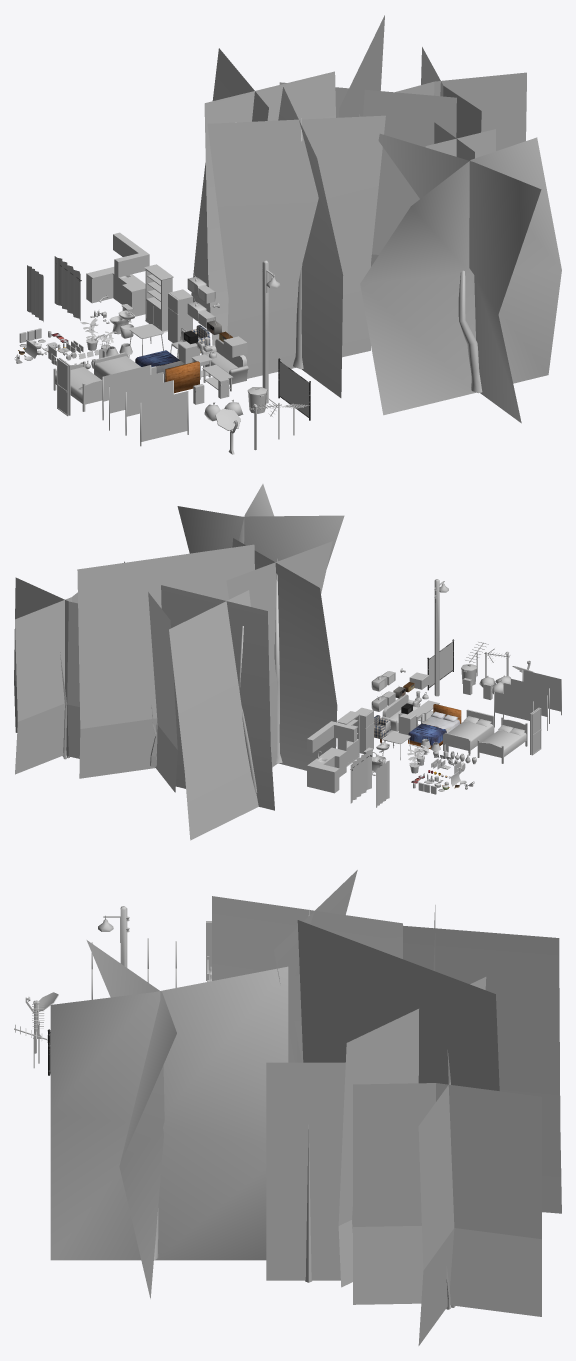
3 renders of one model, top to bottom at view 1: azimuth 30°, elevation 25°; view 2: azimuth 150°, elevation 25°; view 3: azimuth 270°, elevation 25°, orthographic. The views are drawn at different scales.
Parts seen in each view (by area): view 1: Trees_05, Trees_04, Trees, Trees_01, Trees_02, Clothings, kitchen, Trees_03, Bed, Curtain_01, Shelf, Fence (+11 smaller); view 2: Trees_01, Trees, Trees_04, Trees_02, Trees_05, kitchen, Bed_01, Bed, Bed_02, Curtain_01, cupboard, Clothings_03 (+8 smaller); view 3: Trees_05, Trees_02, Trees_01, Trees, Trees_03, Trees_04, lamppost.
Part boxes in pixels (bbox=[...]): Trees_05: bbox=[360, 133, 561, 423]; Trees_04: bbox=[207, 87, 385, 397]; Trees: bbox=[191, 48, 335, 345]; Trees_01: bbox=[279, 15, 456, 266]; Trees_02: bbox=[395, 47, 526, 150]; Clothings: bbox=[140, 391, 188, 446]; kitchen: bbox=[86, 267, 145, 316]; Trees_03: bbox=[425, 122, 495, 160]; Bed: bbox=[135, 350, 199, 393]; Curtain_01: bbox=[54, 256, 80, 320]; Shelf: bbox=[144, 264, 173, 332]; Fence: bbox=[278, 358, 310, 420]; Trees_01: bbox=[77, 544, 254, 792]; Trees: bbox=[161, 585, 274, 840]; Trees_04: bbox=[226, 538, 337, 770]; Trees_02: bbox=[14, 577, 80, 774]; Trees_05: bbox=[177, 484, 344, 567]; kitchen: bbox=[307, 747, 346, 793]; Bed_01: bbox=[443, 709, 494, 755]; Bed: bbox=[408, 704, 461, 748]; Bed_02: bbox=[477, 717, 527, 763]; Curtain_01: bbox=[350, 749, 371, 803]; cupboard: bbox=[307, 721, 356, 752]; Clothings_03: bbox=[494, 691, 533, 727]; Trees_05: bbox=[50, 940, 288, 1298]; Trees_02: bbox=[353, 1050, 541, 1345]; Trees_01: bbox=[297, 920, 499, 1287]; Trees: bbox=[403, 905, 561, 1213]; Trees_03: bbox=[266, 1062, 352, 1282]; Trees_04: bbox=[212, 870, 402, 1062]; lamppost: bbox=[98, 906, 129, 967].
Bounding box in the file's own units: 26.3 × 12.3 × 19.46.
